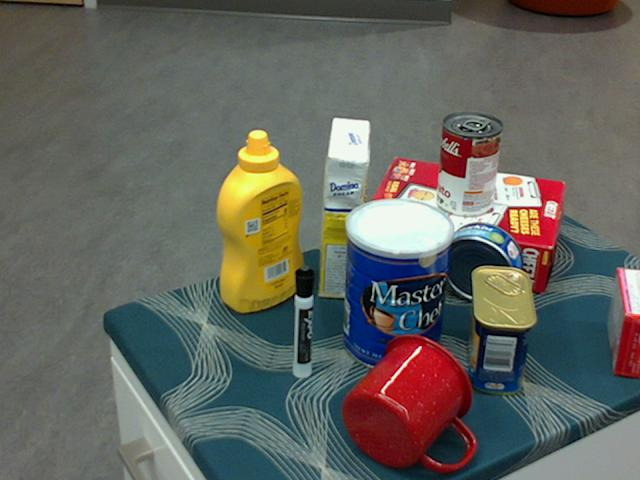cracker_box: (361, 159, 562, 290)
gelatin_box: (606, 268, 639, 378)
large_marker: (291, 265, 313, 380)
master_chef_can: (343, 198, 456, 373)
mug: (342, 333, 474, 472)
mustard_bottle: (215, 130, 304, 313)
potted_meat_can: (466, 266, 538, 395)
sugar_box: (317, 118, 370, 301)
tomato_soup_can: (437, 113, 503, 218)
tuna_fish_can: (440, 221, 524, 302)
